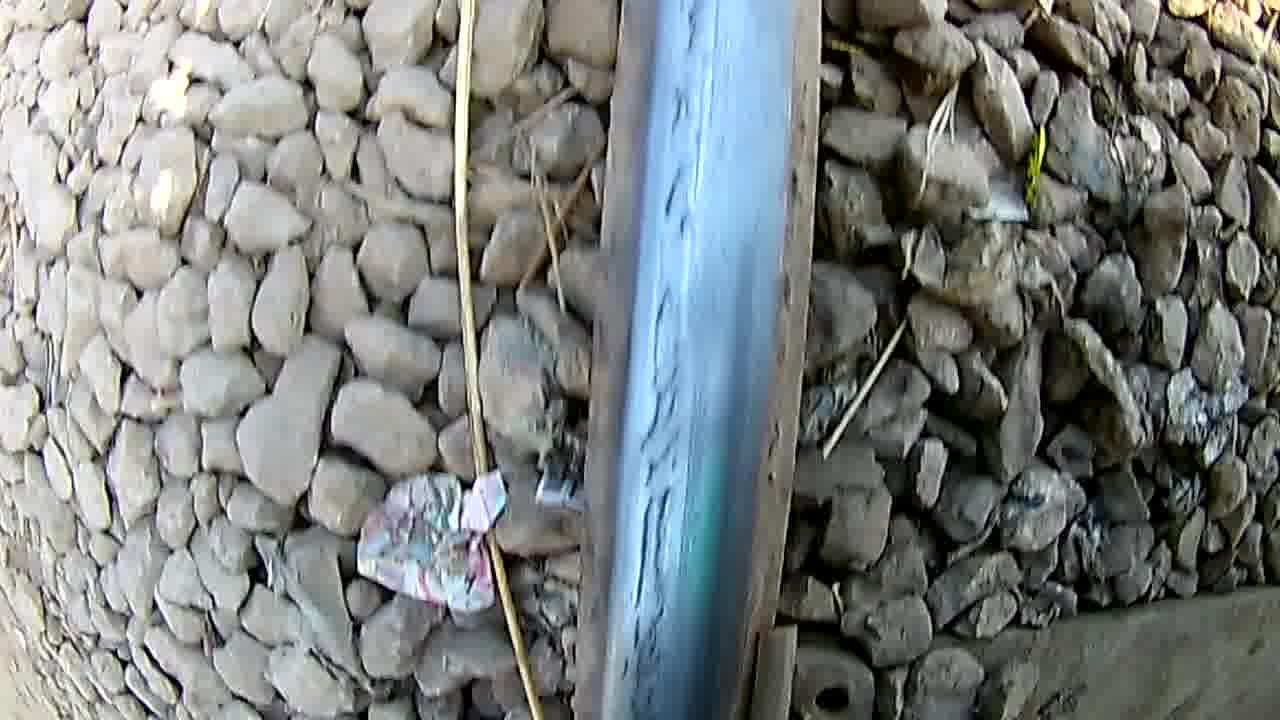normal_track: (622, 12, 718, 713)
